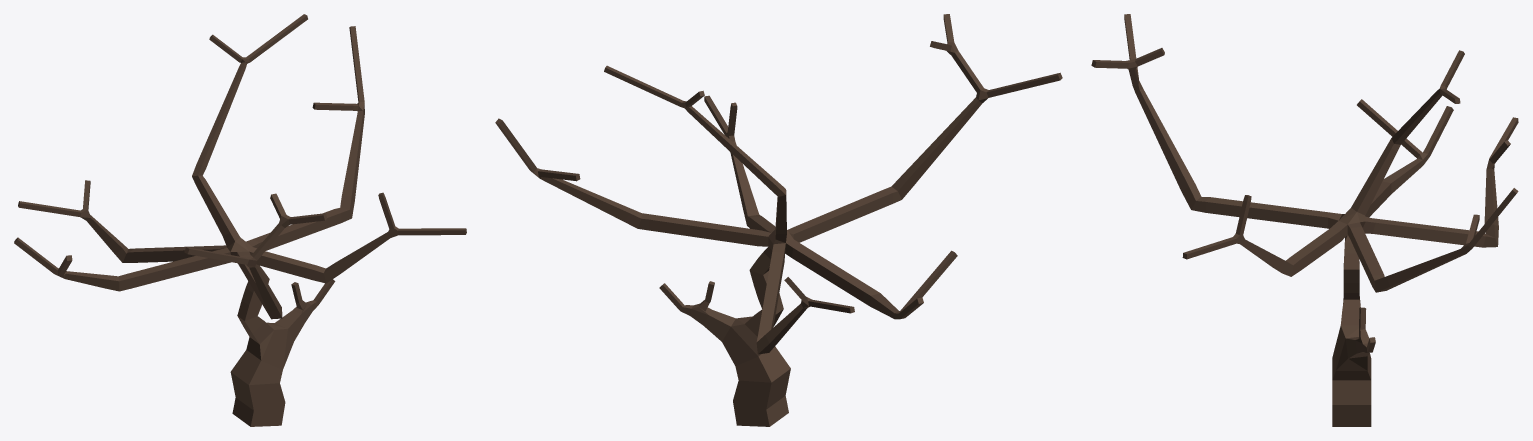
Rendered from planet2bigtree.fbx.
3 renders of one model, left to right at view 1: azimuth 30°, elevation 25°; view 2: azimuth 150°, elevation 25°; view 3: azimuth 270°, elevation 25°, orthographic. The views are drawn at different scales.
Visible parts, largest first — view 1: Cube; view 2: Cube; view 3: Cube.
Part boxes in pixels (bbox=[...]): Cube: bbox=[14, 14, 466, 426]; Cube: bbox=[495, 14, 1062, 426]; Cube: bbox=[1091, 14, 1518, 426].
Size of the model in its own units: 5933 by 5300 by 5523.
